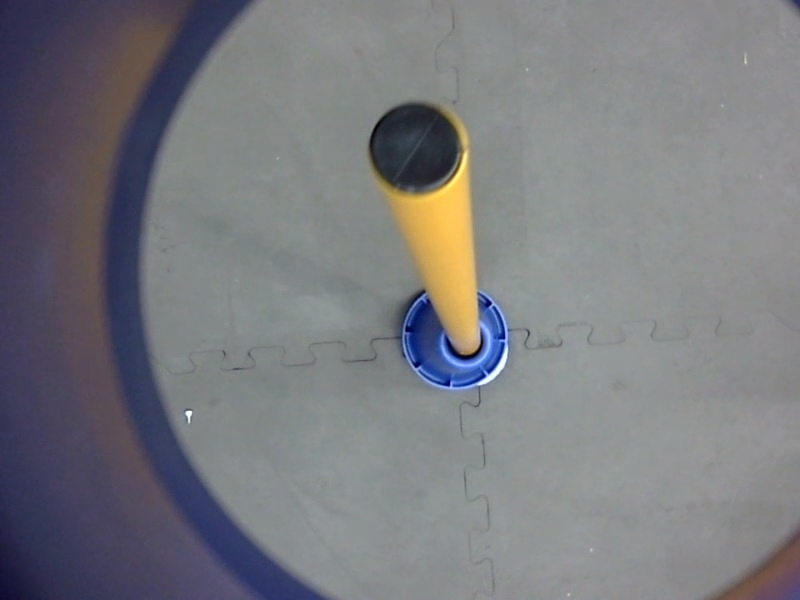tip: (363, 96, 474, 207)
